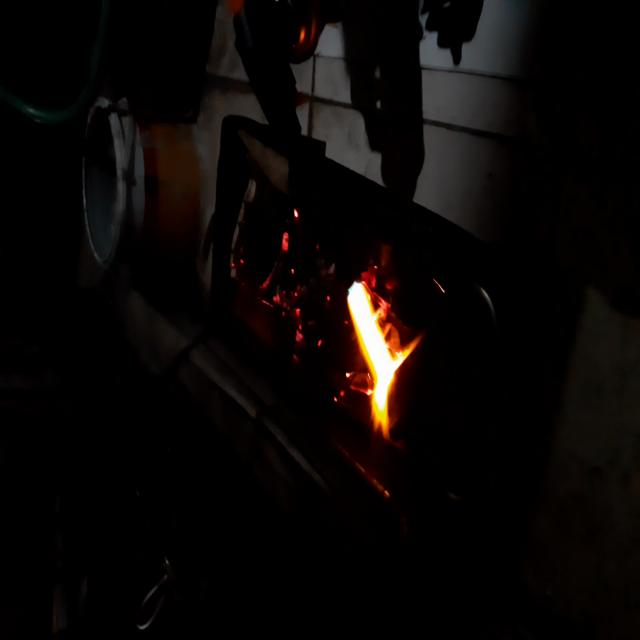Fire: (331, 271, 420, 417), (234, 190, 313, 351)
